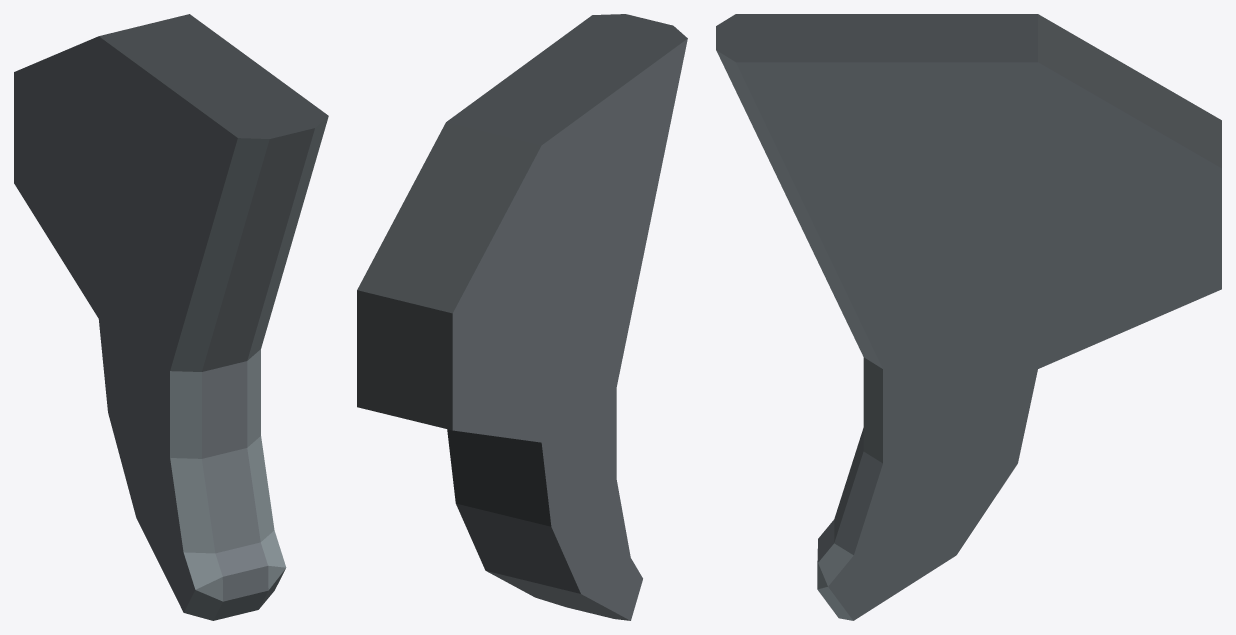
File: MW1_Trigger_01.fbx
The picture shows the model from 3 angles, left to right: view 1: azimuth 30°, elevation 25°; view 2: azimuth 150°, elevation 25°; view 3: azimuth 270°, elevation 25°; orthographic projection. The views are drawn at different scales.
Visible parts, largest first — view 1: Trigger_01; view 2: Trigger_01; view 3: Trigger_01.
Part boxes in pixels (x1,y1,x2,y2): Trigger_01: [14, 14, 328, 620]; Trigger_01: [357, 14, 687, 620]; Trigger_01: [716, 14, 1221, 620].
Bounding box in the file's own units: 0.6315 × 3.47 × 2.8.
